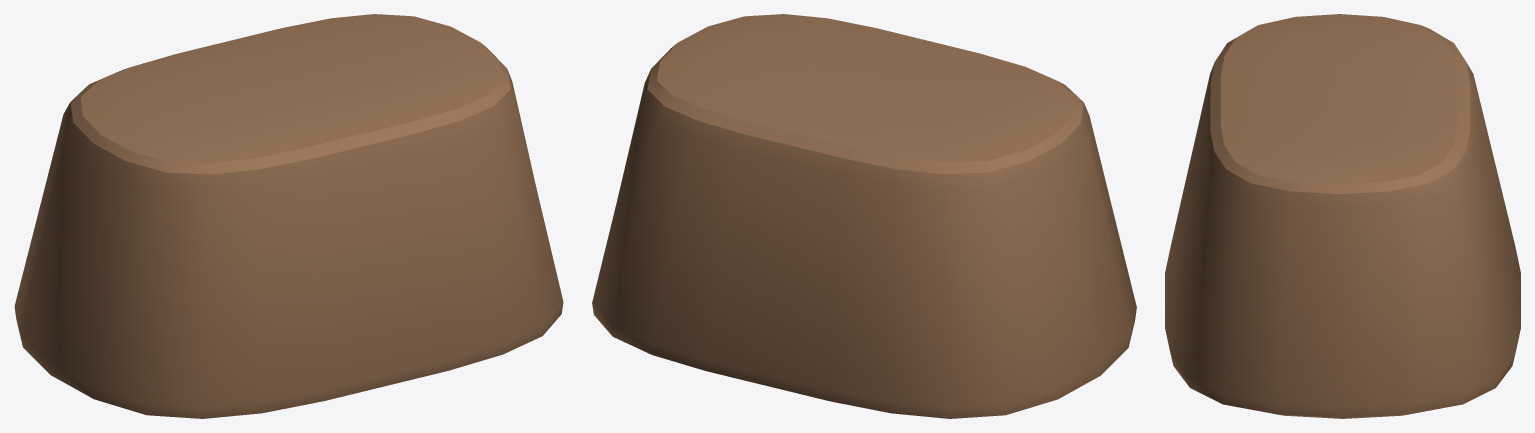
File: rockplatforms_large.glb
3 renders of one model, left to right at view 1: azimuth 30°, elevation 25°; view 2: azimuth 150°, elevation 25°; view 3: azimuth 270°, elevation 25°, orthographic. The views are drawn at different scales.
Visible parts, largest first — view 1: RockPlatforms_Large; view 2: RockPlatforms_Large; view 3: RockPlatforms_Large.
Boxes of the visible parts, bbox=[...] form: RockPlatforms_Large: bbox=[14, 14, 563, 418]; RockPlatforms_Large: bbox=[592, 14, 1136, 418]; RockPlatforms_Large: bbox=[1165, 14, 1520, 418].
Bounding box in the file's own units: 7.38 × 3.63 × 5.16.
